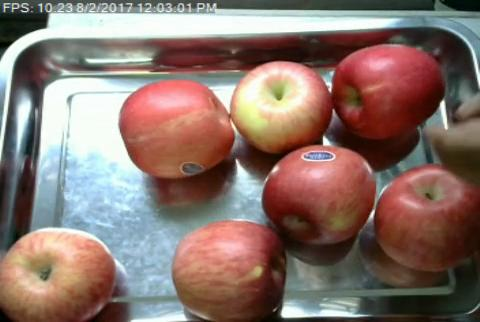apple: (171, 219, 287, 322), (118, 80, 234, 179), (0, 227, 116, 322), (376, 165, 479, 271), (263, 146, 375, 243), (333, 44, 444, 137), (231, 60, 332, 151)
